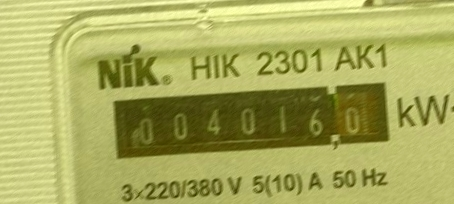0: (238, 101, 261, 137), (136, 111, 159, 145), (171, 106, 192, 141), (342, 101, 364, 134)
1: (276, 98, 293, 133)
4: (205, 102, 225, 137)
6: (306, 102, 327, 135)
screen: (107, 73, 400, 164)
